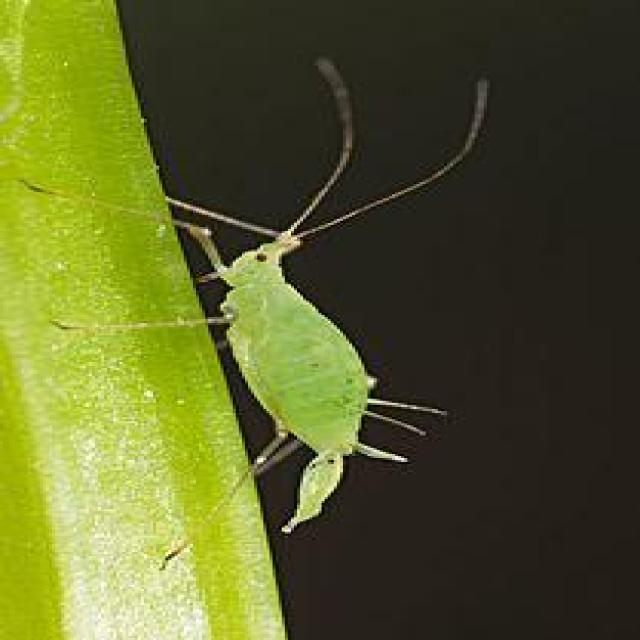Aphids: (44, 63, 515, 574)
